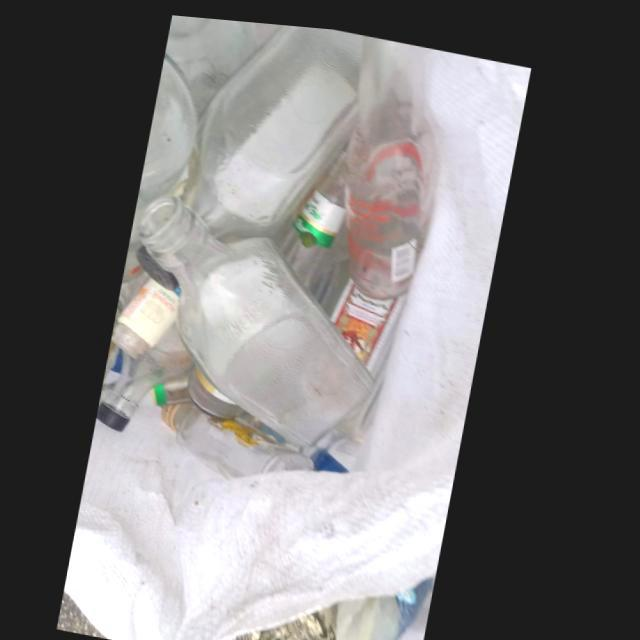glass_bottle: (143, 190, 380, 439), (185, 20, 366, 225), (350, 29, 440, 290), (169, 397, 322, 474), (104, 320, 199, 428)
